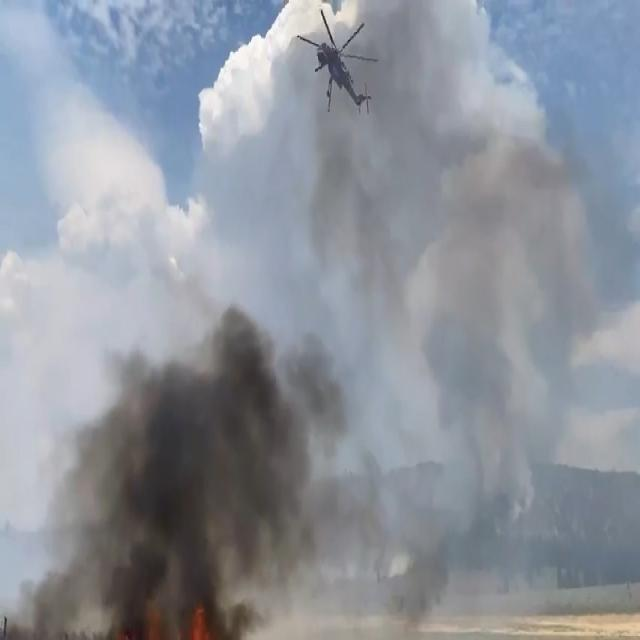Fire: (105, 580, 228, 640)
